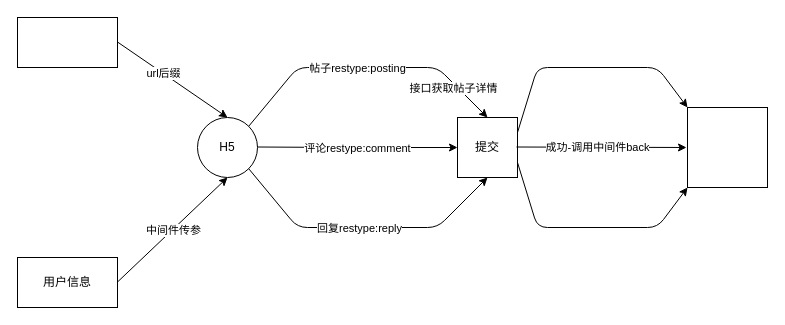
Some shapes in this 785 by 325 pixel diagram are drawn without their labels. The centre of each missing label's shape, as x and y in pixels:
举报信息: [67,42]
返回到app: [727,147]
